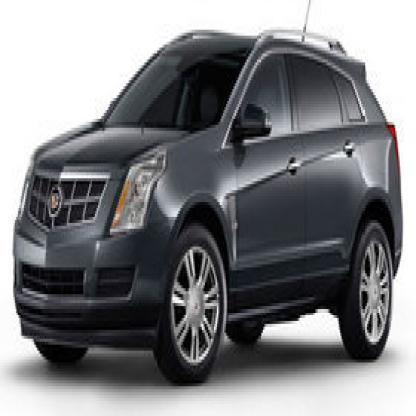Vehicle: (12, 3, 404, 398)
